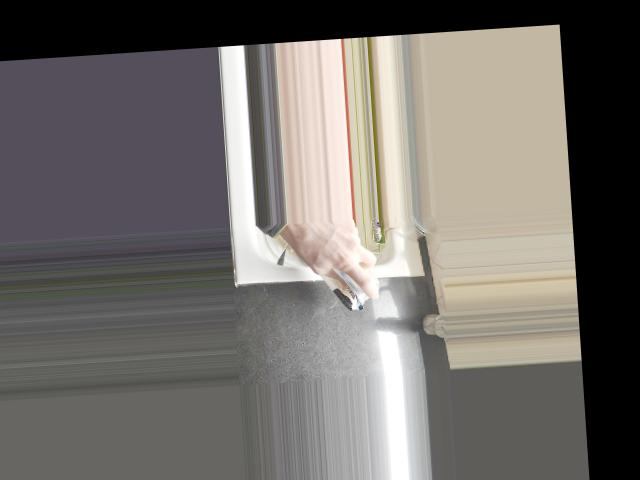cheese: (304, 222, 377, 316)
